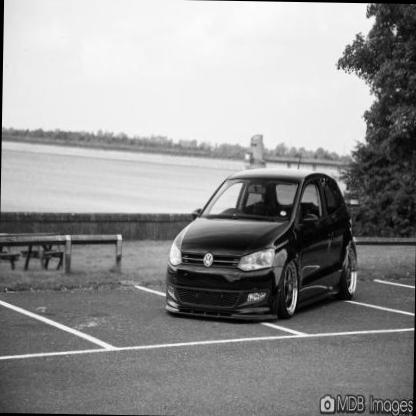car: (157, 146, 394, 354)
